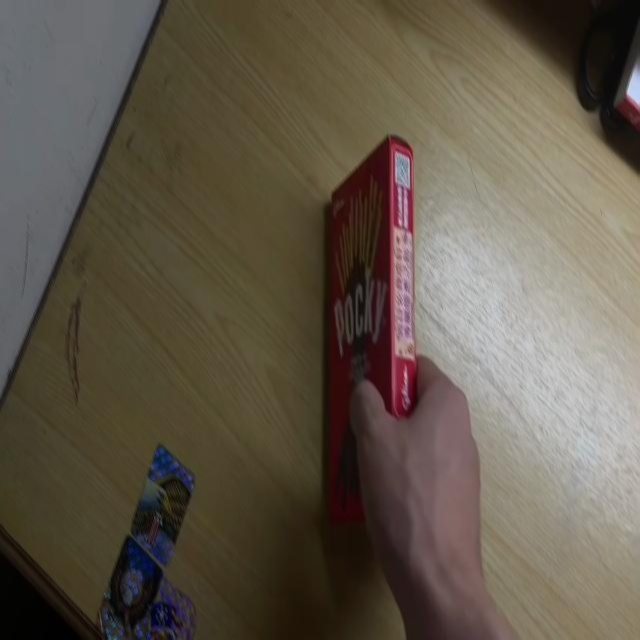Pocky: (329, 134, 418, 541)
